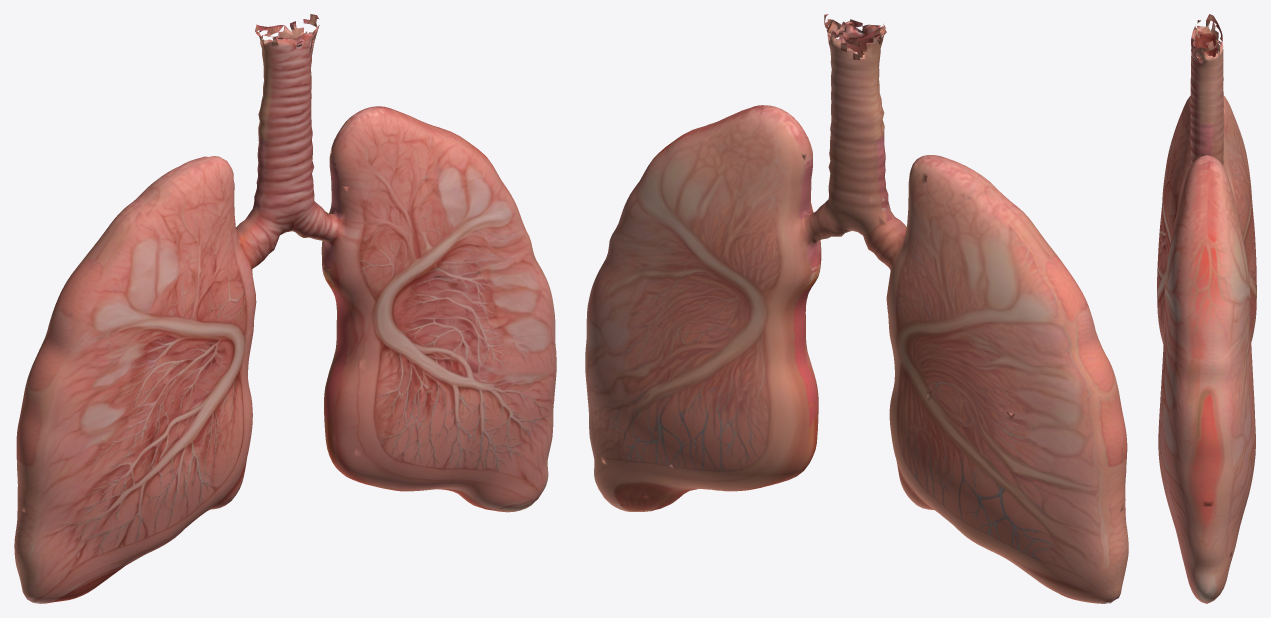
The model's file is LungsModel.glb.
3 renders of one model, left to right at view 1: azimuth 30°, elevation 25°; view 2: azimuth 150°, elevation 25°; view 3: azimuth 270°, elevation 25°, orthographic. The views are drawn at different scales.
Parts seen in each view (by area): view 1: LungsModel; view 2: LungsModel; view 3: LungsModel.
Part boxes in pixels (x1=…): LungsModel: x1=14, y1=14, x2=556, y2=603; LungsModel: x1=585, y1=14, x2=1128, y2=603; LungsModel: x1=1157, y1=14, x2=1256, y2=603.
Size of the model in its own units: 1.99 by 1.95 by 0.3698.
1 material, 1 textured.
